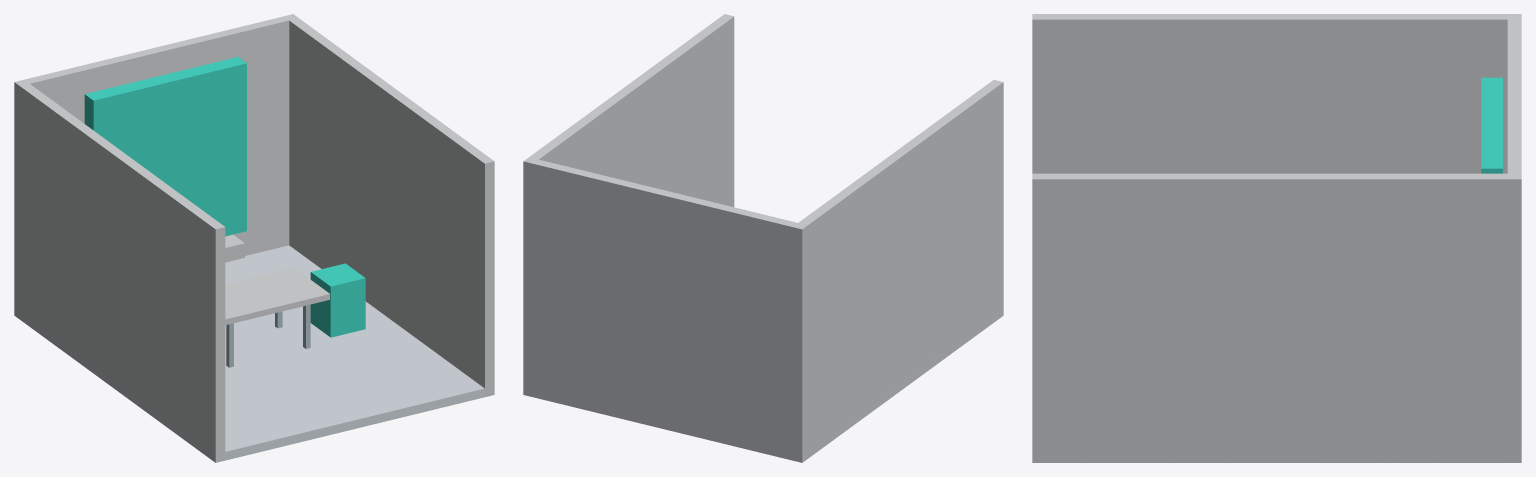
The picture shows the model from 3 angles, left to right: view 1: azimuth 30°, elevation 25°; view 2: azimuth 150°, elevation 25°; view 3: azimuth 270°, elevation 25°; orthographic projection. The views are drawn at different scales.
Visible parts, largest first — view 1: Exhibition Booth Concept; view 2: Exhibition Booth Concept; view 3: Exhibition Booth Concept.
Part boxes in pixels (x1,y1,x2,y2): Exhibition Booth Concept: [14, 14, 494, 462]; Exhibition Booth Concept: [523, 14, 1003, 462]; Exhibition Booth Concept: [1032, 14, 1521, 462].
Bounding box in the file's own units: 4 × 3.2 × 5.
